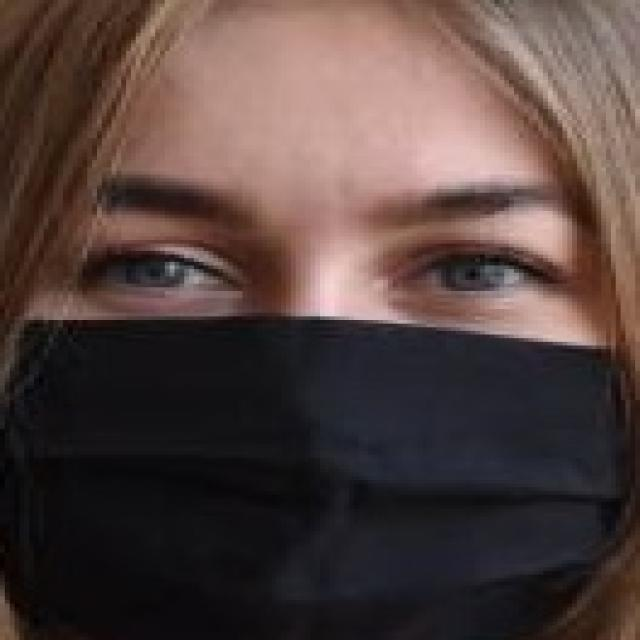Anxiety: (0, 0, 635, 636)
